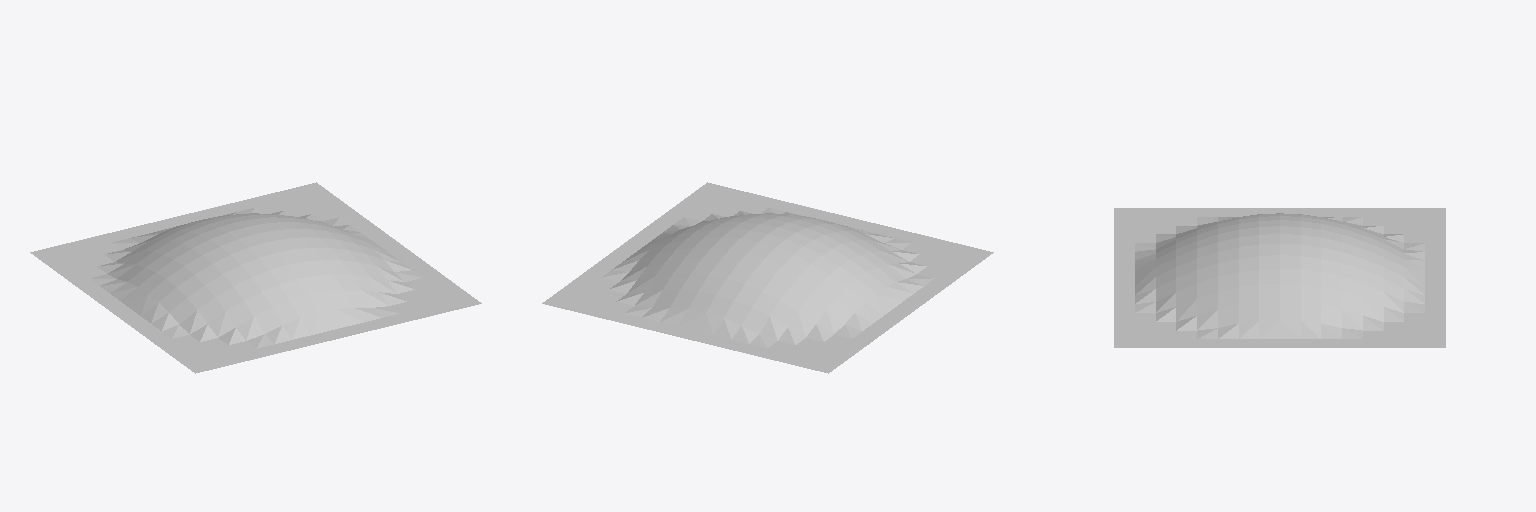
File: sss.obj
The picture shows the model from 3 angles: view 1: azimuth 30°, elevation 25°; view 2: azimuth 150°, elevation 25°; view 3: azimuth 270°, elevation 25°; orthographic projection.
Visible parts, largest first — view 1: Plane; view 2: Plane; view 3: Plane.
Boxes of the visible parts, x1=… form: Plane: x1=30, y1=182, x2=481, y2=373; Plane: x1=542, y1=182, x2=993, y2=373; Plane: x1=1114, y1=208, x2=1445, y2=347.
Size of the model in its own units: 8 by 1.18 by 8.